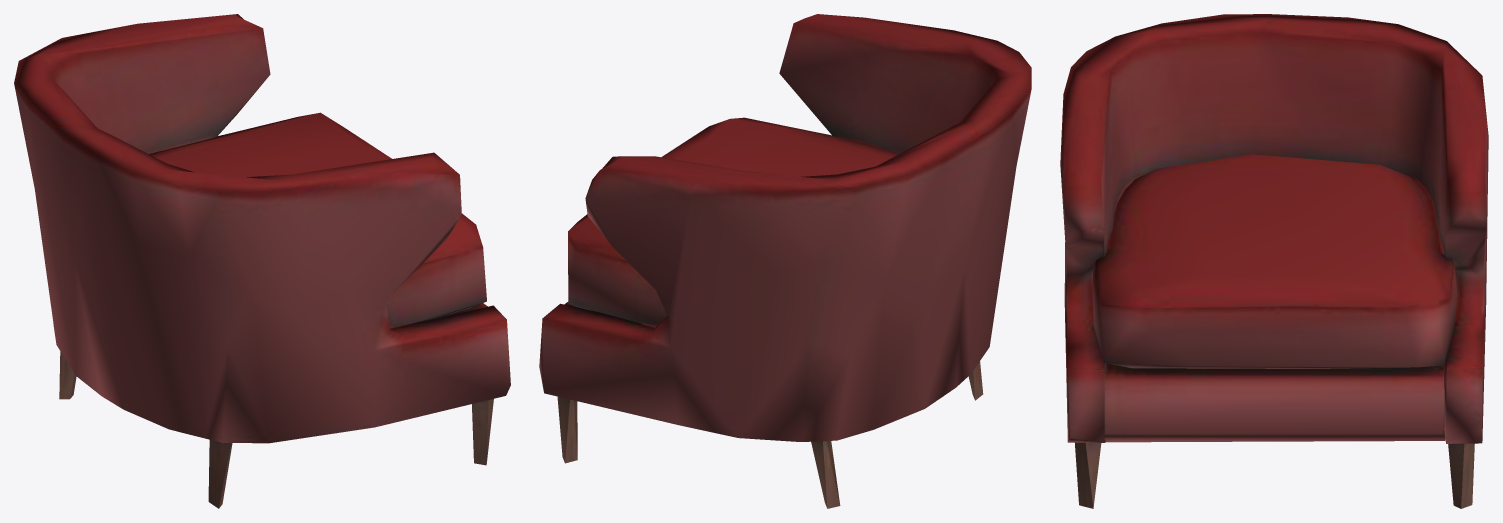
Rendered from S_Sofa0004.obj.
The picture shows the model from 3 angles, left to right: view 1: azimuth 30°, elevation 25°; view 2: azimuth 150°, elevation 25°; view 3: azimuth 270°, elevation 25°; orthographic projection.
Bounding box in the file's own units: 0.643 × 0.594 × 0.684.
1 material, 1 textured.
